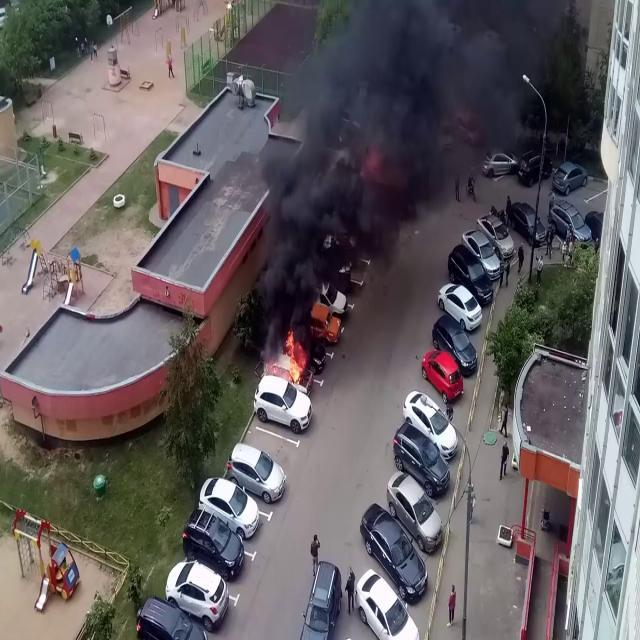Fire: (280, 330, 308, 388)
Smoke: (256, 1, 544, 310)
